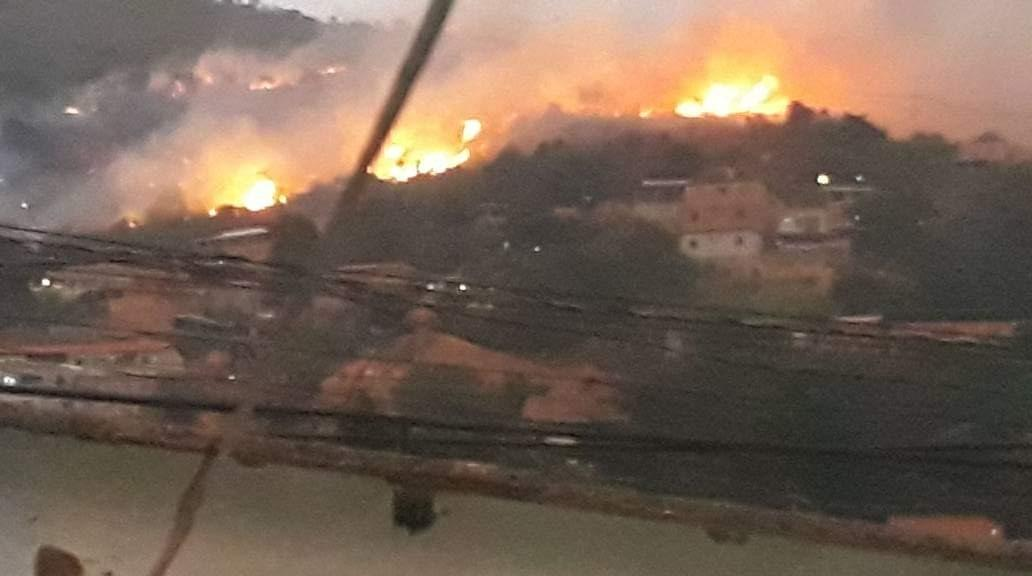Fire: (367, 120, 489, 183), (673, 73, 787, 123), (210, 174, 281, 213)
